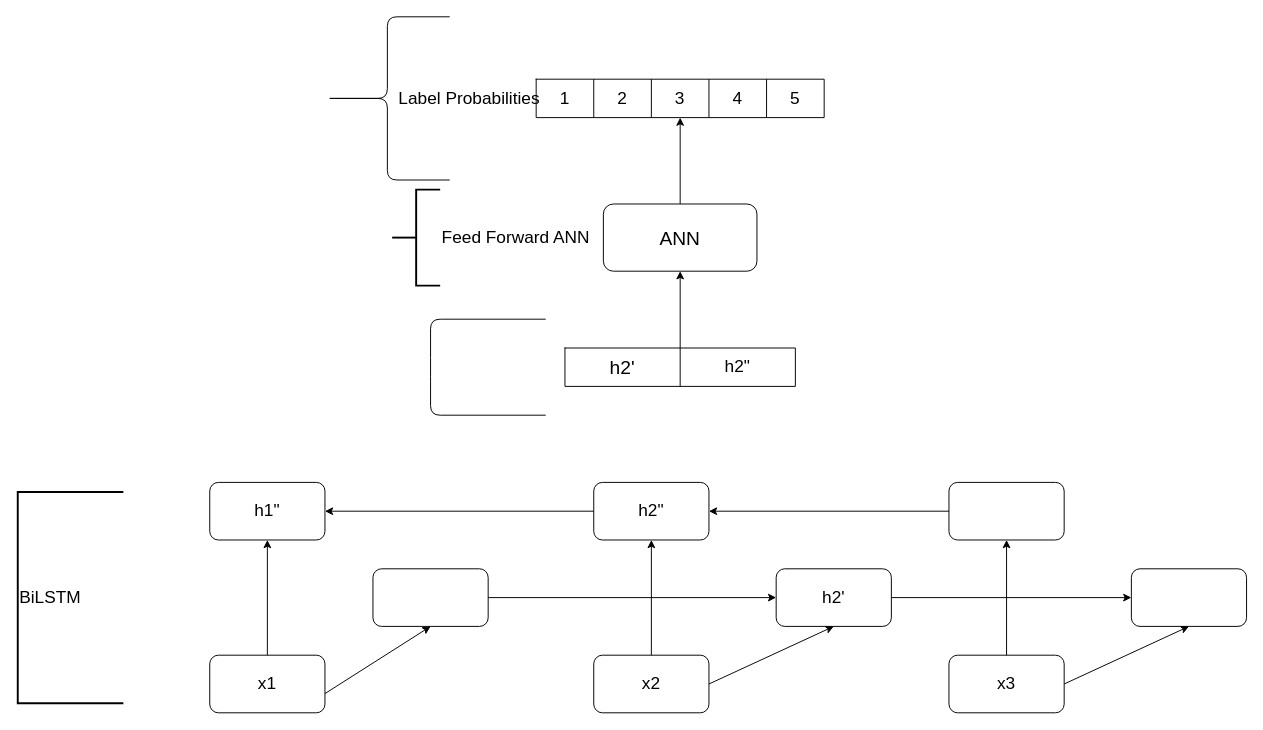
This 1263x730 diagram has some shape labels left out. Each missing label, with the centre of its shape:
encoding along with contextual information: (x=488, y=366)
h1': (x=430, y=597)
h3": (x=1006, y=510)
h3': (x=1188, y=597)
